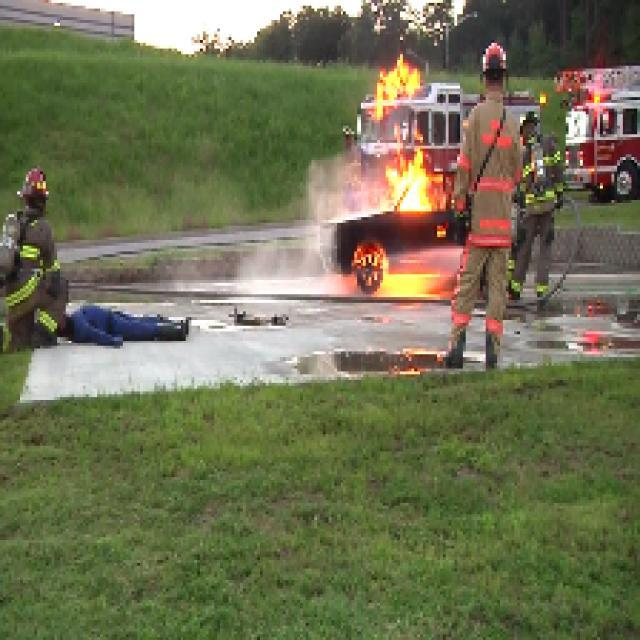Fire: (380, 54, 448, 222)
